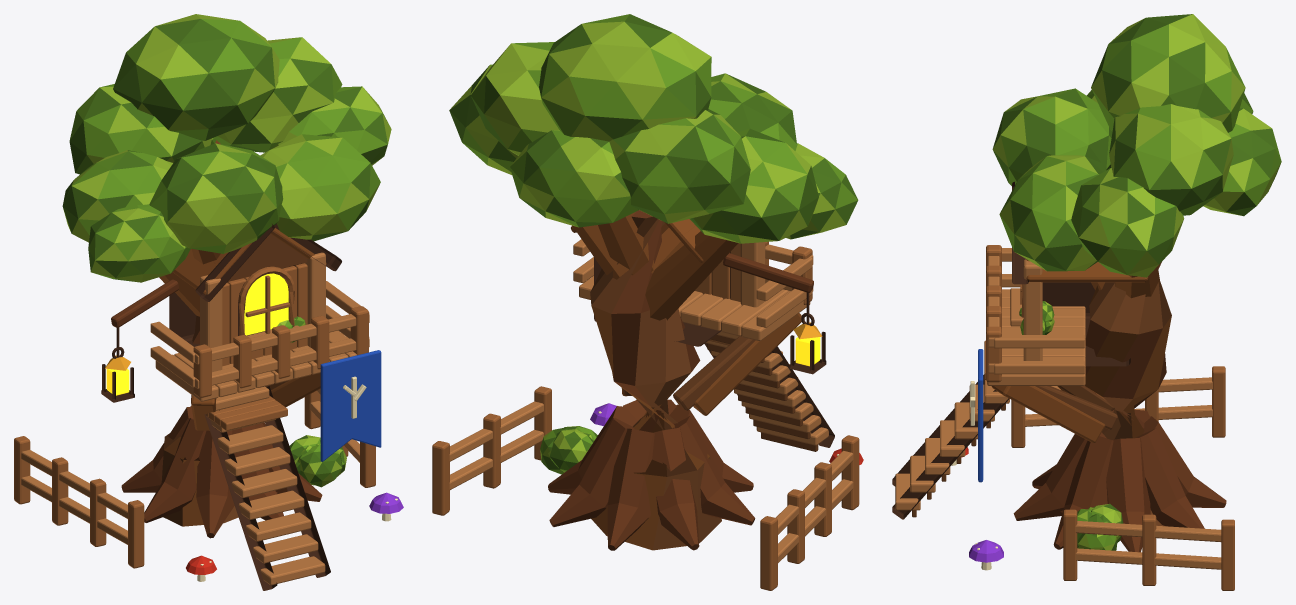
The model's file is tree_house.glb.
3 views of the same model, side by side, from view 1: azimuth 30°, elevation 25°; view 2: azimuth 150°, elevation 25°; view 3: azimuth 270°, elevation 25° (orthographic). The views are drawn at different scales.
Parts seen in each view (by area): view 1: Faceted broadleaf crown.002, Faceted broadleaf crown.006, Faceted broadleaf crown.005, Faceted broadleaf crown.003, Faceted broadleaf crown.001, Faceted broadleaf crown.007, Faceted broadleaf crown, Blue treehouse banner, Faceted broadleaf crown.004, Spreading tree root.004, Spreading tree root.005, Warm arched window (+50 smaller); view 2: Faceted broadleaf crown.002, Ancient hollow tree, Faceted broadleaf crown.001, Faceted broadleaf crown.008, Faceted broadleaf crown, Faceted broadleaf crown.003, Spreading tree root.002, Twisting canopy branch, Faceted broadleaf crown.006, Spreading tree root.003, Spreading tree root.001, Faceted broadleaf crown.007 (+33 smaller); view 3: Faceted broadleaf crown.002, Faceted broadleaf crown.003, Ancient hollow tree, Faceted broadleaf crown.004, Faceted broadleaf crown.005, Faceted broadleaf crown.006, Faceted broadleaf crown.008, Spreading tree root, Spreading tree root.001, Spreading tree root.007, Spreading tree root.006, Treehouse deep balcony bracket.001 (+31 smaller).
Part boxes in pixels (x1,y1,x2,y2): Faceted broadleaf crown.002: (113, 14, 279, 140); Faceted broadleaf crown.006: (149, 143, 283, 253); Faceted broadleaf crown.005: (260, 134, 380, 241); Faceted broadleaf crown.003: (214, 37, 342, 152); Faceted broadleaf crown.001: (69, 84, 211, 174); Faceted broadleaf crown.007: (88, 204, 190, 282); Faceted broadleaf crown: (62, 150, 172, 242); Blue treehouse banner: (320, 350, 381, 461); Faceted broadleaf crown.004: (272, 86, 391, 165); Spreading tree root.004: (144, 418, 206, 522); Spreading tree root.005: (196, 430, 234, 538); Warm arched window: (244, 273, 288, 335); Faceted broadleaf crown.002: (539, 14, 711, 141); Ancient hollow tree: (590, 210, 721, 550); Faceted broadleaf crown.001: (609, 109, 750, 223); Faceted broadleaf crown.008: (510, 130, 638, 227); Faceted broadleaf crown: (690, 128, 818, 243); Faceted broadleaf crown.003: (471, 42, 558, 155); Spreading tree root.002: (607, 428, 654, 550); Twisting canopy branch: (645, 231, 737, 320); Faceted broadleaf crown.006: (708, 73, 796, 144); Spreading tree root.003: (652, 427, 699, 550); Spreading tree root.001: (549, 418, 634, 526); Faceted broadleaf crown.007: (786, 143, 858, 239); Faceted broadleaf crown.002: (1091, 14, 1245, 132); Faceted broadleaf crown.003: (1109, 104, 1233, 215); Ancient hollow tree: (1060, 282, 1171, 526); Faceted broadleaf crown.004: (1071, 167, 1184, 277); Faceted broadleaf crown.005: (999, 155, 1106, 271); Faceted broadleaf crown.006: (992, 88, 1112, 185); Faceted broadleaf crown.008: (1203, 108, 1281, 216); Spreading tree root: (1106, 438, 1150, 552); Spreading tree root.001: (1135, 428, 1204, 528); Spreading tree root.007: (1053, 436, 1113, 549); Spreading tree root.006: (1013, 432, 1106, 520); Treehouse deep balcony bracket.001: (991, 386, 1105, 442).
Bounding box in the file's own units: 3.84 × 5.25 × 3.67.
